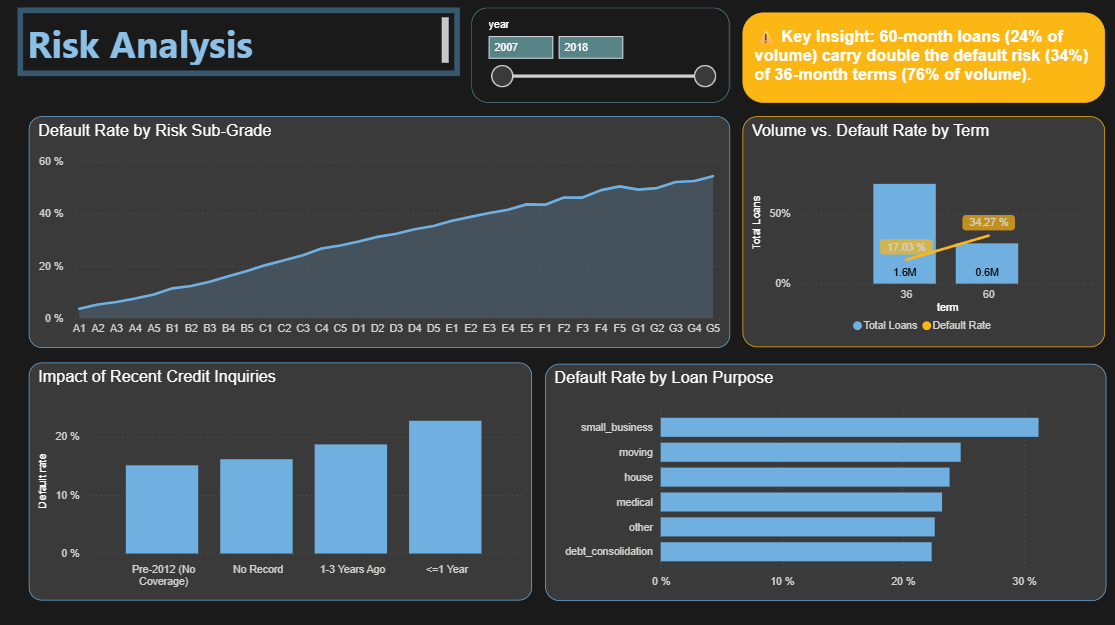

The page's visual inventory and layout, read from the dashboard file:
{"tool":"powerbi","page":{"name":"Risk Analysis","canvas":[1280,720],"ordinal":2},"visuals":[{"type":"textbox","box":[19.3,8.4,505.5,78.4],"z":0},{"type":"clusteredBarChart","title":"Default Rate by Loan Purpose","fields":{"Category":["dim_purpose.purpose"],"Y":["fact_loans.Default %"]},"box":[622.5,415,641.2,271.2],"z":1000},{"type":"lineChart","title":"Default Rate by Risk Sub-Grade","fields":{"Category":["dim_risk.sub_grade"],"Y":["fact_loans.Default %"]},"box":[32.5,132.5,801.2,265],"z":2000},{"type":"columnChart","title":"Impact of Recent Credit Inquiries ","fields":{"Category":["dim_risk.mths_since_recent_inq_label"],"Y":["fact_loans.Default %"]},"box":[32.9,414.4,575,271.7],"z":3000},{"type":"slicer","fields":{"Values":["dim_date.year"]},"box":[538.4,8.3,295,108.5],"z":4000},{"type":"textbox","box":[848.7,13.9,414.6,103],"z":5000},{"type":"lineClusteredColumnComboChart","title":"Volume vs. Default Rate by Term","fields":{"Category":["dim_risk.term"],"Y":["Divide(fact_loans.Total Loans, ScopedEval(fact_loans.Total Loans, []))"],"Y2":["fact_loans.Default %"]},"box":[848.7,132.2,414.6,264.3],"z":6000}]}

Visuals, with their boxes in screenshot pixels (x1, y1, x2, y2), scaled from the page's 1280x720 canvas onto the 1115x625 screenshot:
textbox: {"left": 17, "top": 7, "right": 457, "bottom": 75}
"Default Rate by Loan Purpose" clusteredBarChart: {"left": 542, "top": 360, "right": 1101, "bottom": 596}
"Default Rate by Risk Sub-Grade" lineChart: {"left": 28, "top": 115, "right": 726, "bottom": 345}
"Impact of Recent Credit Inquiries " columnChart: {"left": 29, "top": 360, "right": 530, "bottom": 596}
slicer - dim_date.year: {"left": 469, "top": 7, "right": 726, "bottom": 101}
textbox: {"left": 739, "top": 12, "right": 1100, "bottom": 101}
"Volume vs. Default Rate by Term" lineClusteredColumnComboChart: {"left": 739, "top": 115, "right": 1100, "bottom": 344}
